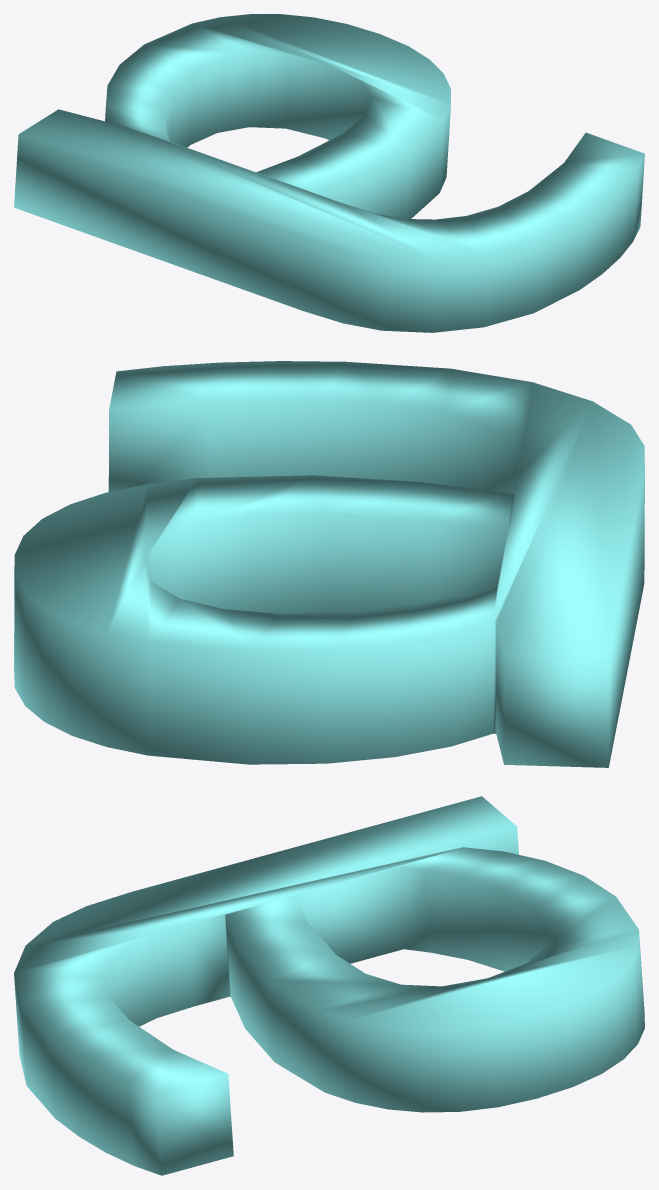
File: original-11.obj
3 renders of one model, top to bottom at view 1: azimuth 30°, elevation 25°; view 2: azimuth 150°, elevation 25°; view 3: azimuth 270°, elevation 25°, orthographic. The views are drawn at different scales.
Visible parts, largest first — view 1: mesh12/mesh12-geometry#mesh12-geometry; view 2: mesh12/mesh12-geometry#mesh12-geometry; view 3: mesh12/mesh12-geometry#mesh12-geometry.
Boxes of the visible parts, left/top/right/bottom form: mesh12/mesh12-geometry#mesh12-geometry: left=14, top=14, right=644, bottom=332; mesh12/mesh12-geometry#mesh12-geometry: left=14, top=361, right=644, bottom=767; mesh12/mesh12-geometry#mesh12-geometry: left=14, top=796, right=644, bottom=1175.
Size of the model in its own units: 0.0793 by 0.0169 by 0.08.
